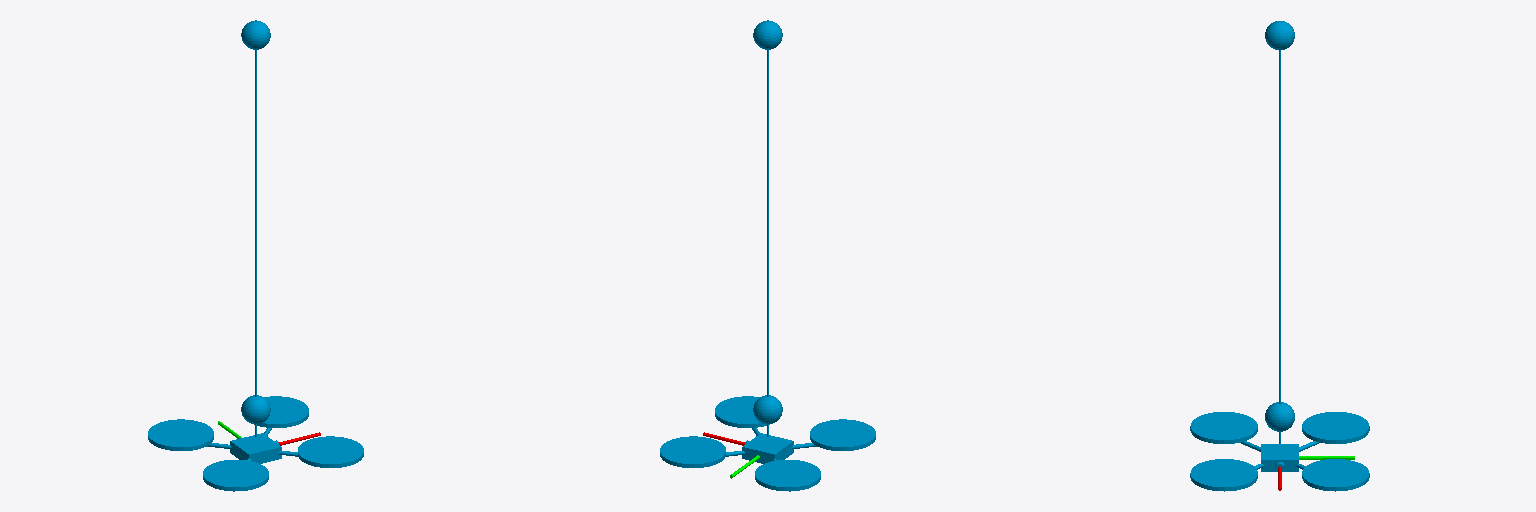
The robot description file, URDF, robot "drone":
<?xml version="1.0" ?>

<robot name="drone">

  <material name="arches-blue">
    <color rgba="0.0 0.6235294117647059 0.8313725490196079 1" />
  </material>

  <link name="base">
    <inertial>
      <origin rpy="0 0 0" xyz="0 0 0"/>
      <mass value="0.036"/>
      <inertia ixx="0.00001" ixy="0.0" ixz="0.0" iyy="0.00001" iyz="0.0" izz="0.00002"/>
    </inertial>
    <visual>
      <origin rpy="0 0 0" xyz="0 0 0"/>
      <geometry>
        <mesh filename="drone.stl" scale="0.3 0.3 0.3"/>
      </geometry>
      <material name="arches-blue"/>
    </visual>
    <collision>
      <origin rpy="0 0 0" xyz="0 0 0"/>
      <geometry>
        <mesh filename="drone.stl" scale="0.3 0.3 0.3"/>
      </geometry>
    </collision>
  </link>

  <link name="bar">
    <inertial>
      <origin rpy="0 0 0" xyz="0 0 0.165"/>
      <mass value="0.001"/>
      <inertia ixx="0.00008" ixy="0.0" ixz="0.0" iyy="0.00008" iyz="0.0" izz="0.0000000018"/>
    </inertial>
    <visual>
      <origin rpy="0 0 0" xyz="0 0 0.165"/>
      <geometry>
        <cylinder radius="0.0006" length="0.31"/>
      </geometry>
      <material name="arches-blue"/>
    </visual>
    <collision>
      <origin rpy="0 0 0" xyz="0 0 0.165"/>
      <geometry>
        <cylinder radius="0.0006" length="0.31"/>
      </geometry>
    </collision>
  </link>

  <link name="ball_bot">
    <inertial>
      <origin rpy="0 0 0" xyz="0 0 0"/>
      <mass value="0.003"/>
      <inertia ixx="0.000005" ixy="0.0" ixz="0.0" iyy="0.000005" iyz="0.0" izz="0.000005"/>
    </inertial>
    <visual>
      <origin rpy="0 0 0" xyz="0 0 0"/>
      <geometry>
        <sphere radius="0.01"/>
      </geometry>
      <material name="arches-blue"/>
    </visual>
    <collision>
      <origin rpy="0 0 0" xyz="0 0 0"/>
      <geometry>
        <sphere radius="0.01"/>
      </geometry>
    </collision>
  </link>

  <link name="ball_top">
    <inertial>
      <origin rpy="0 0 0" xyz="0 0 0"/>
      <mass value="0.003"/>
      <inertia ixx="0.000005" ixy="0.0" ixz="0.0" iyy="0.000005" iyz="0.0" izz="0.000005"/>
    </inertial>
    <visual>
      <origin rpy="0 0 0" xyz="0 0 0"/>
      <geometry>
        <sphere radius="0.01"/>
      </geometry>
      <material name="arches-blue"/>
    </visual>
    <collision>
      <origin rpy="0 0 0" xyz="0 0 0"/>
      <geometry>
        <sphere radius="0.01"/>
      </geometry>
    </collision>
  </link>

  <link name="center_of_mass">
    <inertial>
      <origin rpy="0 0 0" xyz="0 0 0"/>
      <mass value="0"/>
      <inertia ixx="0" ixy="0" ixz="0" iyy="0" iyz="0" izz="0"/>
    </inertial>
  </link>

  <link name="x-axis">
     <visual>
       <origin rpy="0 0 0" xyz="0 0 0.025"/>
       <geometry>
         <cylinder radius="0.00125" length="0.05"/>
       </geometry>
       <material name="red">
         <color rgba="1 0 0 1"/>
       </material>
     </visual>
     <inertial>
       <mass value="0"/>
       <inertia ixx="0" ixy="0" ixz="0" iyy="0" iyz="0" izz="0"/>
     </inertial>
   </link>

   <link name="y-axis">
     <visual>
       <origin rpy="0 0 0" xyz="0 0 0.025"/>
       <geometry>
         <cylinder radius="0.00125" length="0.05"/>
       </geometry>
       <material name="green">
         <color rgba="0 1 0 1"/>
       </material>
     </visual>
     <inertial>
       <mass value="0"/>
       <inertia ixx="0" ixy="0" ixz="0" iyy="0" iyz="0" izz="0"/>
     </inertial>
   </link>

   <!-- <link name="z-axis">
     <visual>
       <origin rpy="0 0 0" xyz="0 0 0.025"/>
       <geometry>
         <cylinder radius="0.00125" length="0.05"/>
       </geometry>'
       <material name="blue">
         <color rgba="0 0 1 1"/>
       </material>'
     </visual>
     <inertial>
       <mass value="0"/>
       <inertia ixx="0" ixy="0" ixz="0" iyy="0" iyz="0" izz="0"/>
     </inertial>
   </link> -->

   <joint name="base_to_bar" type="continuous">
     <parent link="base"/>
     <child link="bar"/>
     <axis xyz="0 1 0"/>
     <origin xyz="0 0 0" rpy="0 0 0"/>
     <limit lowereffort="1000" velocity="1000"/>
   </joint>

  <joint name="bar_to_ball_bot" type="fixed">
    <parent link="bar"/>
    <child link="ball_bot"/>
    <origin xyz="0 0 0.03" rpy="0 0 0"/>
  </joint>

     <joint name="bar_to_ball_top" type="fixed">
    <parent link="bar"/>
    <child link="ball_top"/>
    <origin xyz="0 0 0.31" rpy="0 0 0"/>
  </joint>

  <joint name="base_to_center_of_mass" type="fixed">
    <parent link="base"/>
    <child link="center_of_mass"/>
  </joint>

  <joint name="base-to-x" type="fixed">
     <parent link="base"/>
     <child link="x-axis"/>
     <origin xyz="0 0 0" rpy="0 1.57 0"/>
   </joint>

   <joint name="base-to-y" type="fixed">
     <parent link="base"/>
     <child link="y-axis"/>
     <origin xyz="0 0 0" rpy="-1.57 0 0"/>
   </joint>

   <!-- <joint name="base-to-z" type="fixed">
     <parent link="base"/>
     <child link="z-axis"/>
     <origin xyz="0 0 0" rpy="0 0 0"/>
   </joint> -->

</robot>

--- What the picture shows (computed from the rendered views, not written in the file) ---
3 views of the same robot in one strip: view 1: azimuth 30°, elevation 25°; view 2: azimuth 150°, elevation 25°; view 3: azimuth 270°, elevation 25° (orthographic).
Model drone with 7 links and 6 joints (1 continuous, 5 fixed), rooted at base, posed every joint at zero.
Links seen in each view (by area): view 1: base, bar, ball_top, ball_bot; view 2: base, bar, ball_top, ball_bot; view 3: base, bar, ball_bot, ball_top.
Link boxes in pixels (x1,y1,x2,y2): base: (148,396,363,491); bar: (255,50,256,436); ball_top: (241,20,270,49); ball_bot: (241,395,270,423); base: (660,396,875,491); bar: (767,50,768,436); ball_top: (753,20,782,49); ball_bot: (753,395,782,423); base: (1190,412,1369,491); bar: (1279,50,1280,443); ball_bot: (1265,402,1294,431); ball_top: (1265,21,1294,49).
Size in the robot's own frame: 0.1192 by 0.1192 by 0.3245 metres.
Meshes: 1 distinct files referenced, 1 mesh visuals loaded (1 binary STL).